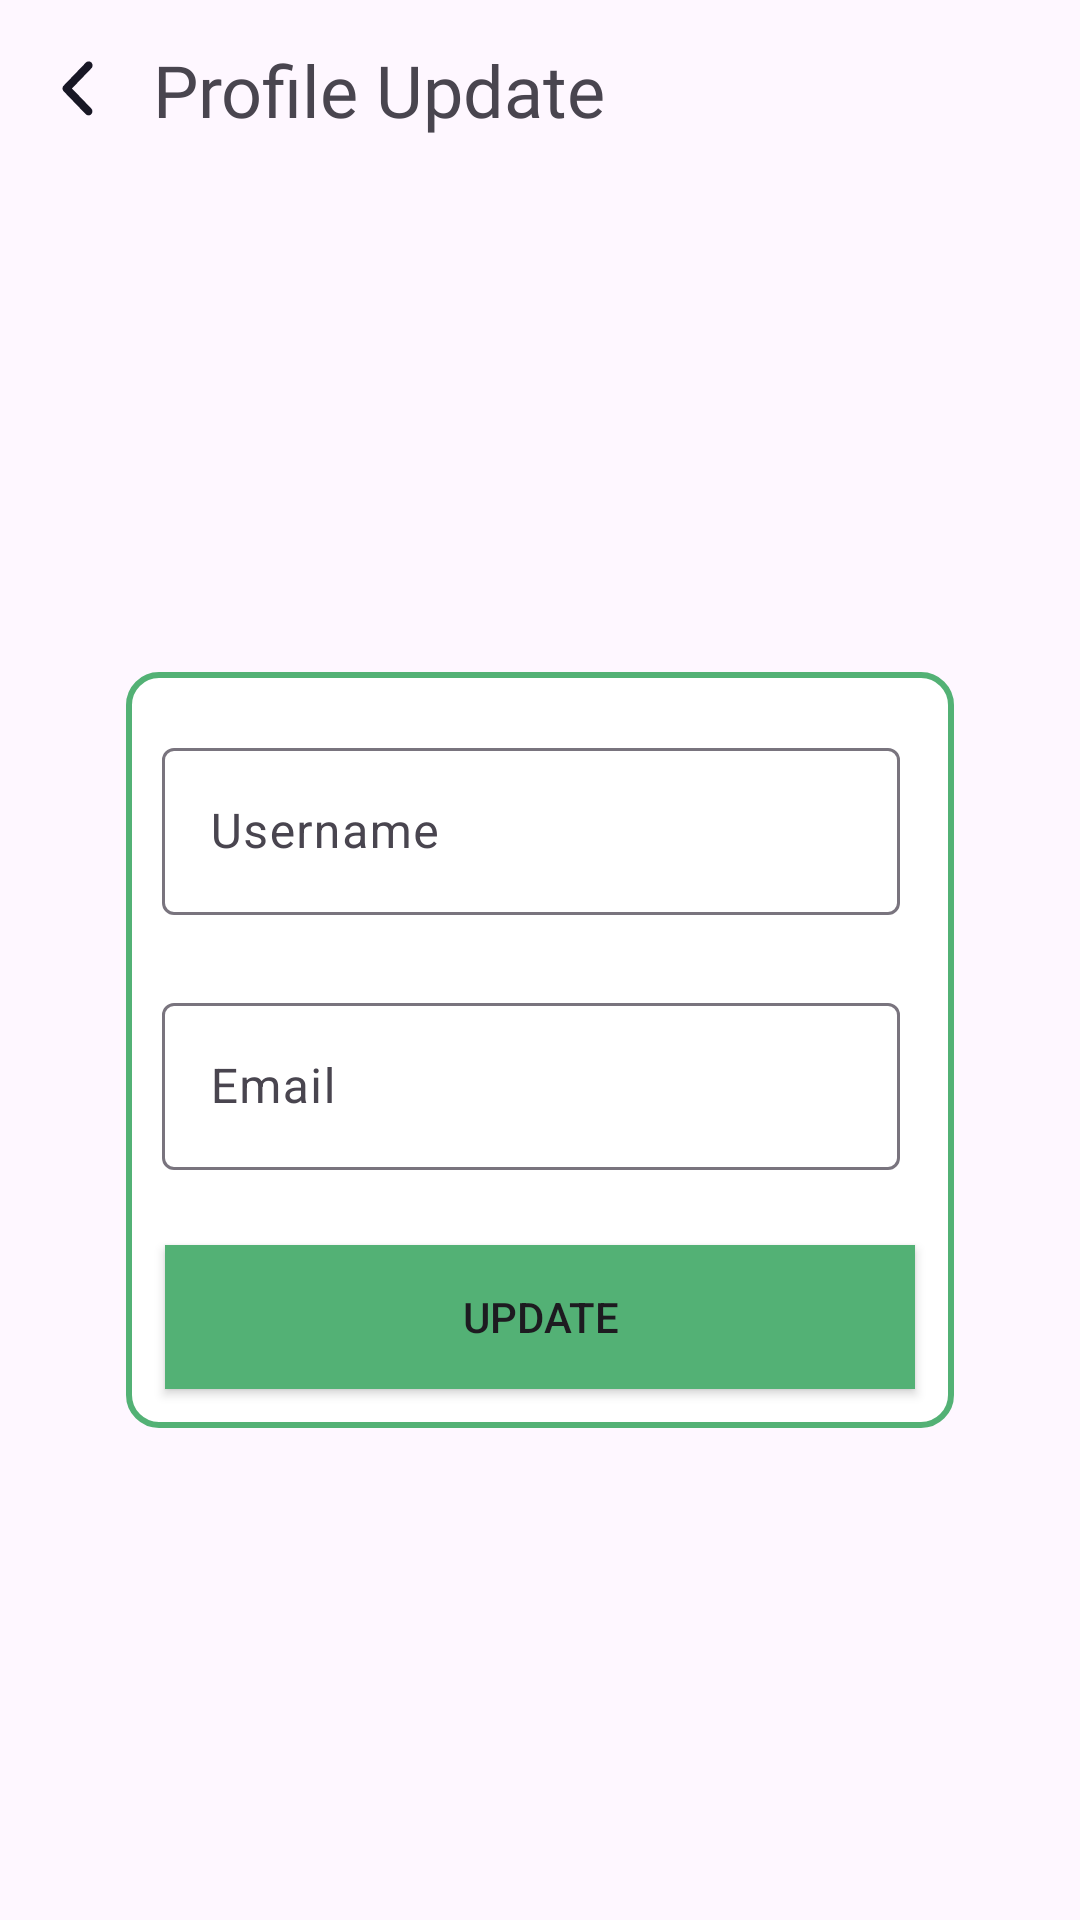

Icon click points for this 1080 × 1920 phone screenshot, format [x,y]:
back: [77,88]
